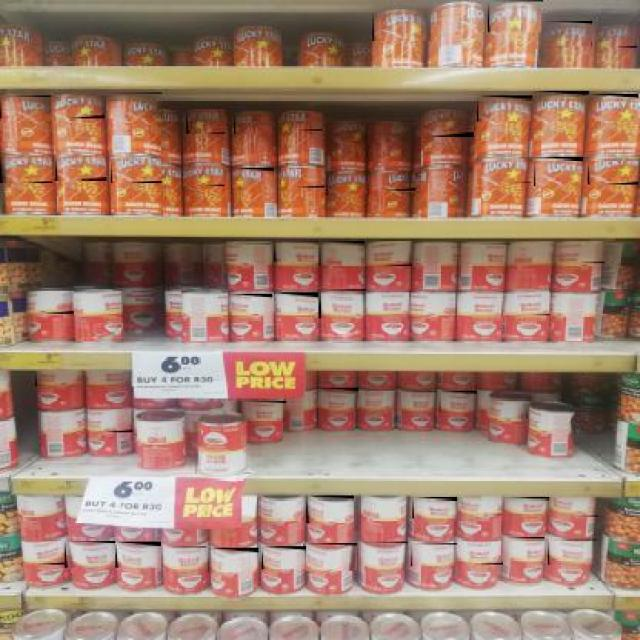Beans: (372, 9, 432, 42), (488, 1, 544, 33), (416, 110, 476, 138), (477, 95, 534, 123), (304, 543, 359, 572), (533, 92, 592, 119), (108, 93, 163, 121), (0, 156, 54, 184), (504, 240, 558, 268), (540, 20, 594, 48), (65, 540, 117, 569), (534, 158, 584, 188), (320, 289, 368, 320), (587, 93, 640, 121), (362, 542, 410, 572), (318, 240, 369, 268), (110, 158, 164, 184), (457, 292, 511, 318), (306, 496, 356, 524), (548, 539, 598, 567), (364, 240, 414, 268), (55, 156, 108, 182), (587, 160, 640, 186), (195, 451, 252, 475), (208, 548, 260, 574), (552, 240, 606, 265), (234, 26, 288, 51), (364, 292, 410, 321), (76, 291, 124, 318), (255, 499, 308, 523), (506, 290, 551, 318), (476, 162, 533, 184), (56, 95, 106, 120), (462, 243, 512, 268), (0, 95, 52, 119), (116, 542, 162, 569), (86, 409, 134, 434), (22, 542, 72, 566), (26, 291, 76, 315), (162, 546, 208, 572), (408, 291, 454, 317), (411, 543, 458, 568), (326, 171, 371, 197), (458, 542, 504, 567), (262, 546, 308, 571), (274, 240, 323, 263), (485, 395, 530, 420), (112, 243, 157, 268), (222, 243, 272, 265), (454, 495, 503, 517), (271, 292, 320, 314), (184, 163, 227, 188), (276, 168, 327, 189), (505, 537, 546, 563), (412, 497, 458, 520), (240, 400, 288, 422), (376, 120, 418, 145), (186, 110, 226, 136), (553, 497, 601, 518), (332, 120, 372, 145), (232, 168, 276, 190), (372, 171, 418, 192), (228, 295, 274, 316), (234, 112, 274, 136), (317, 388, 360, 410), (357, 390, 398, 413), (397, 391, 438, 414), (597, 26, 638, 49), (438, 391, 478, 414), (88, 369, 135, 388), (36, 370, 84, 388), (280, 112, 323, 132), (504, 497, 550, 515)
